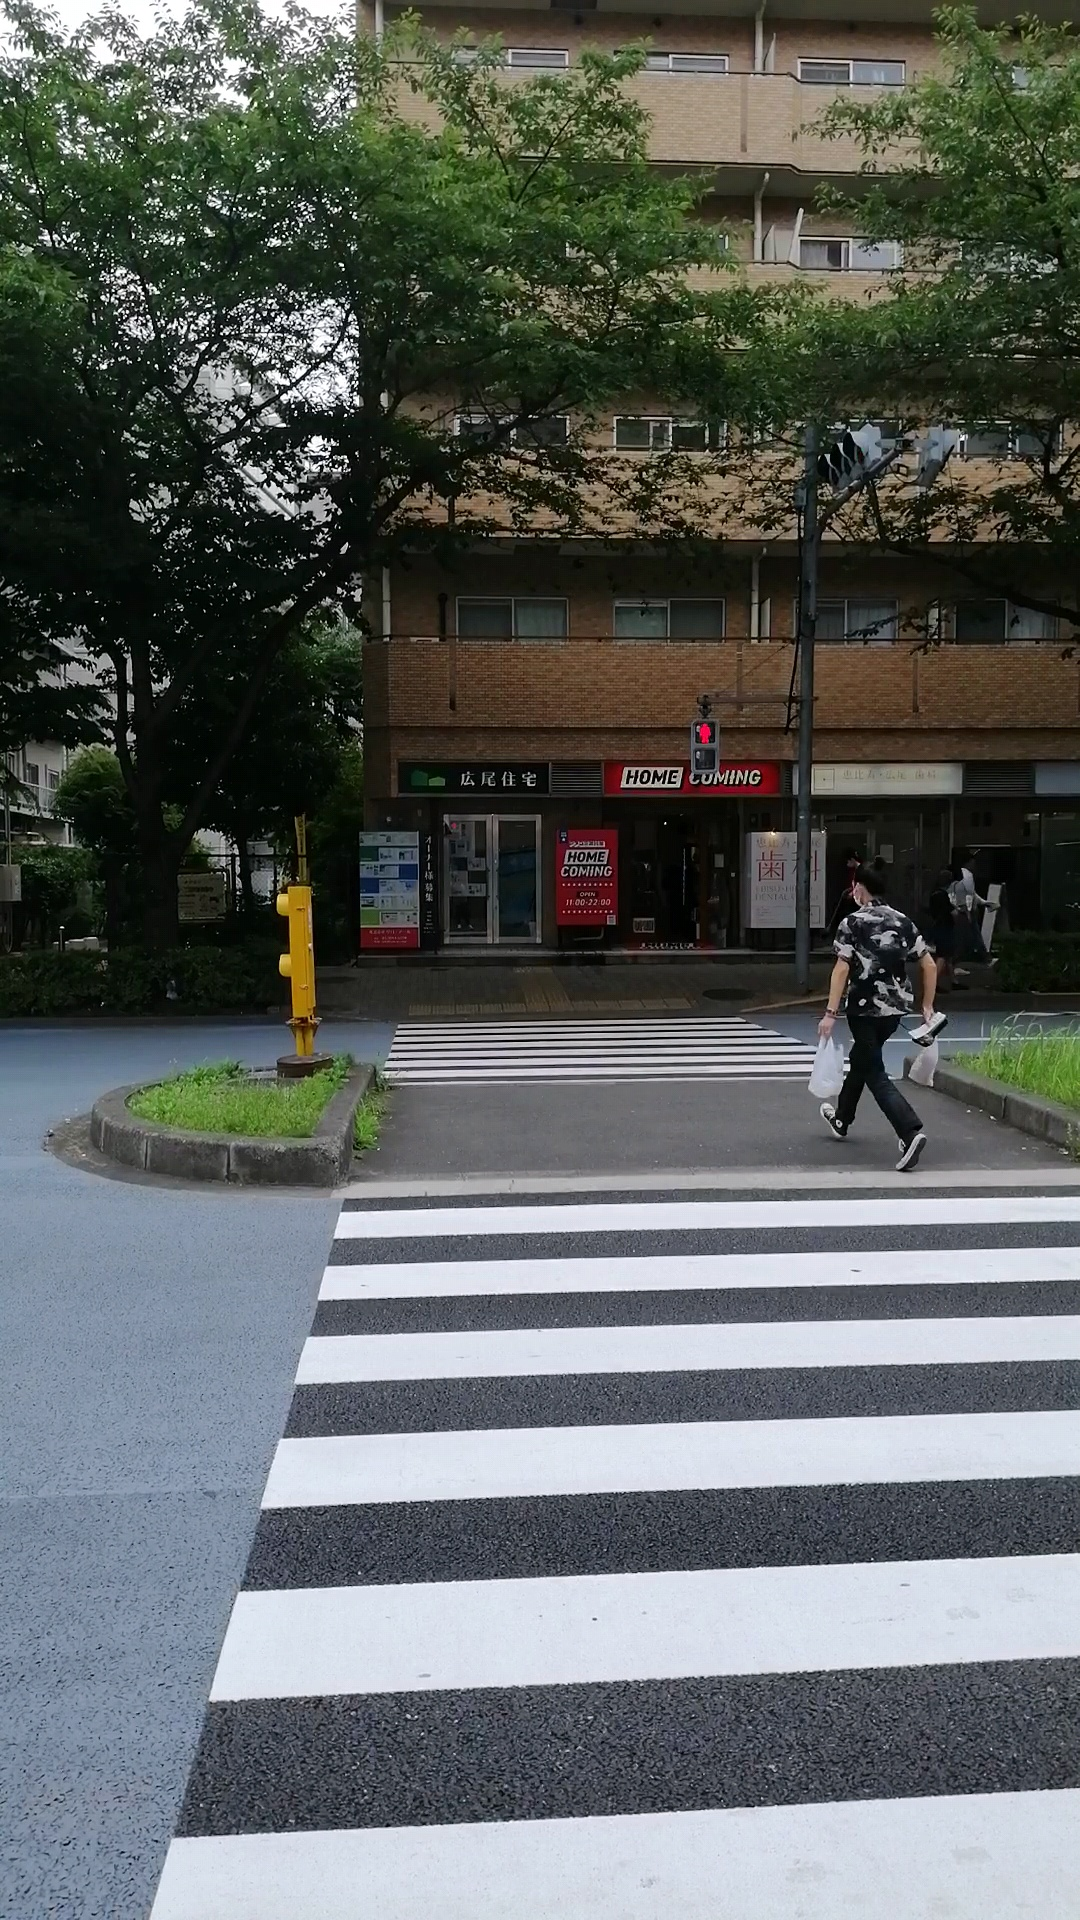red: (690, 717, 720, 773)
